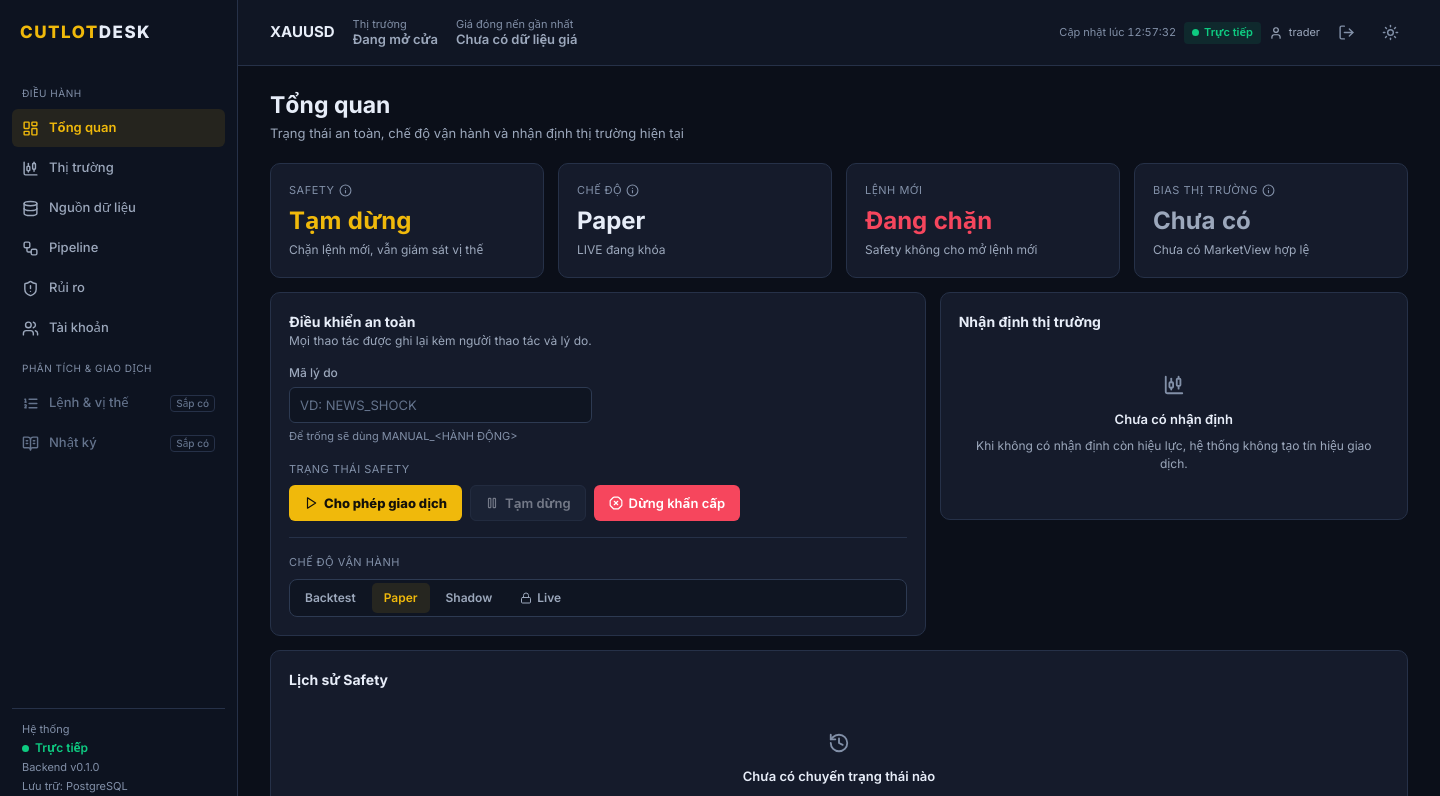
App › lỗi 409 hiển thị thông báo thân thiện, không hiện lỗi thô
This screenshot has width=1440, height=796.
Click the button "Live" at coordinates (541, 598), box [508,583,573,613]
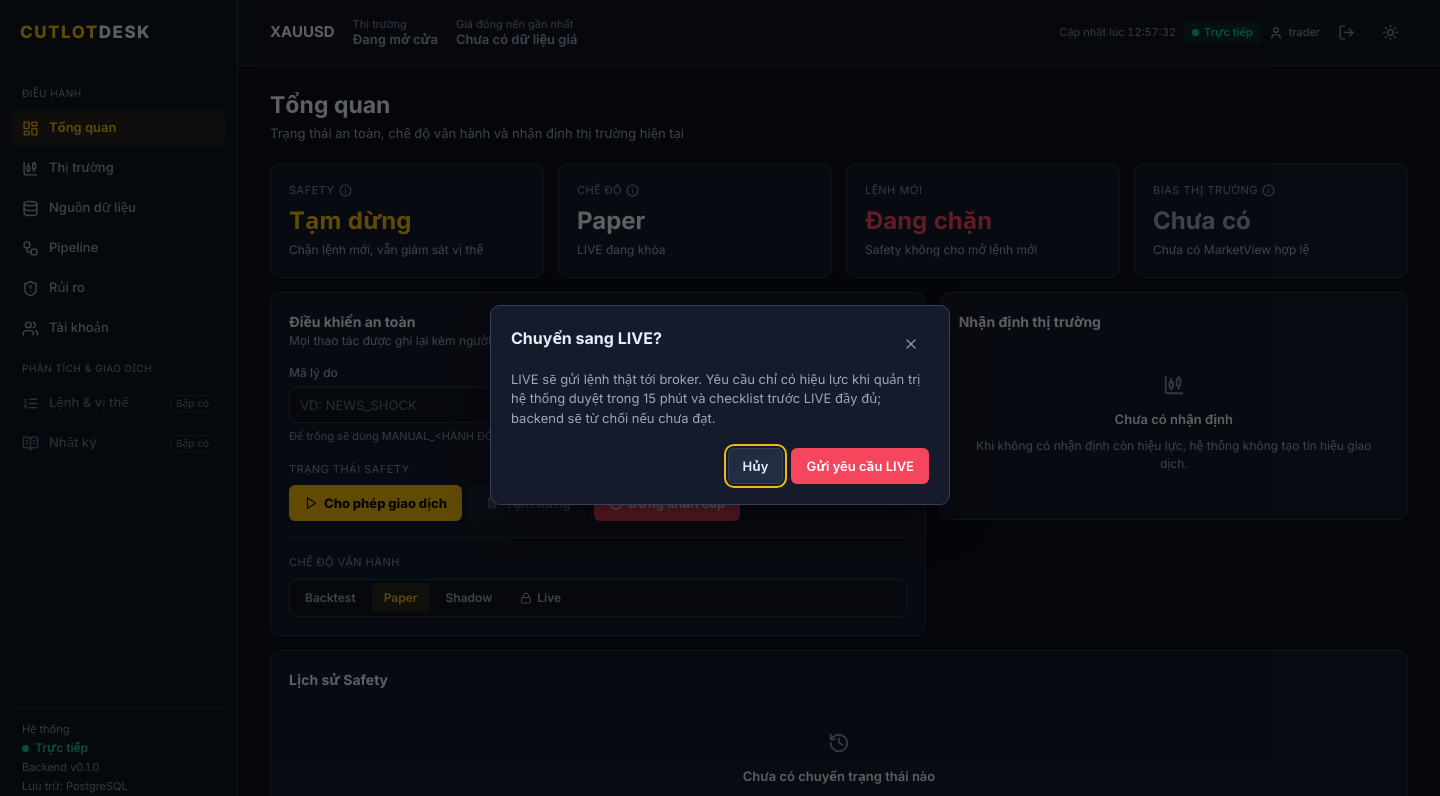
Click the button "Gửi yêu cầu LIVE" at coordinates (860, 466), box [791,448,929,484]
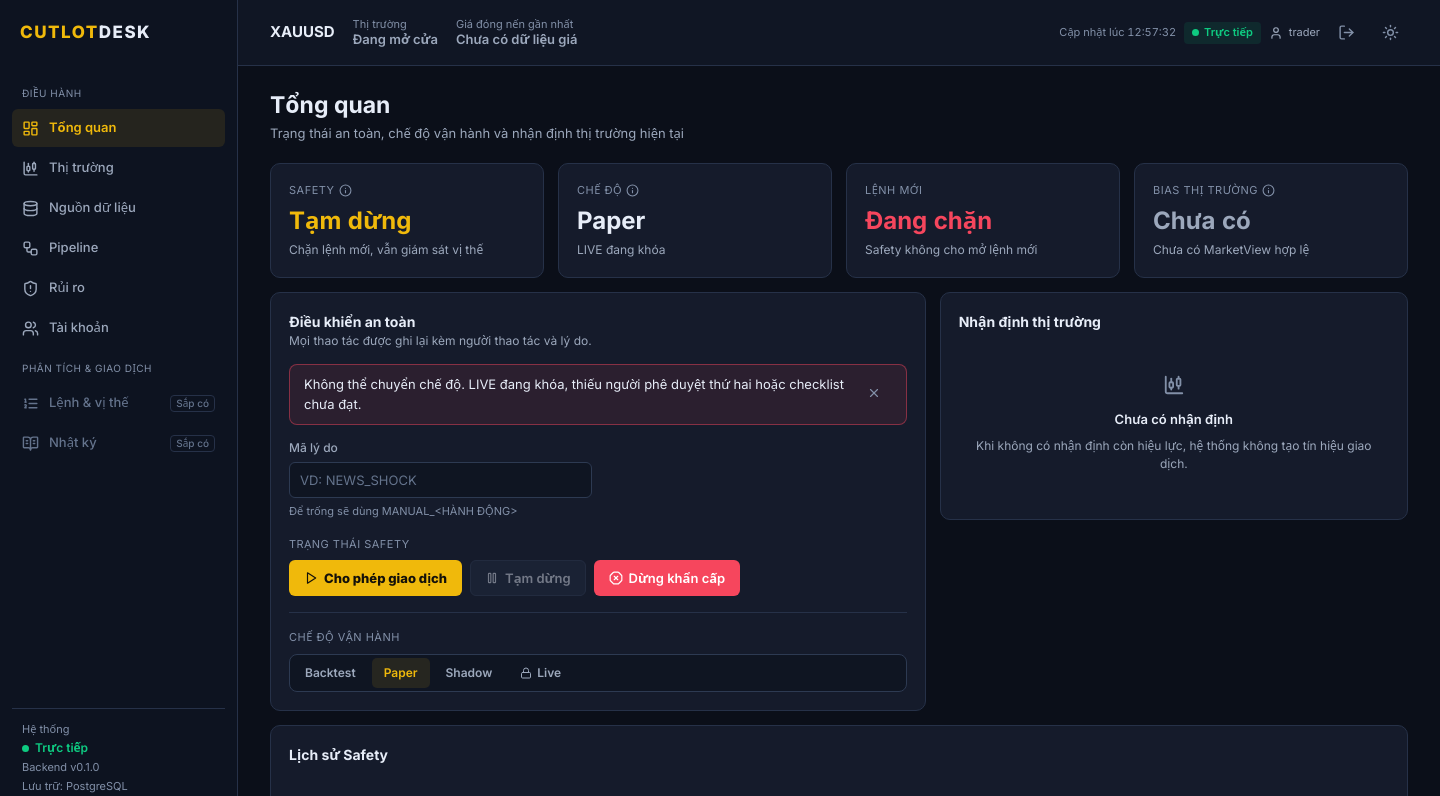
expect the text "Không thể chuyển chế độ" is shown: met, box [304,376,844,412]
